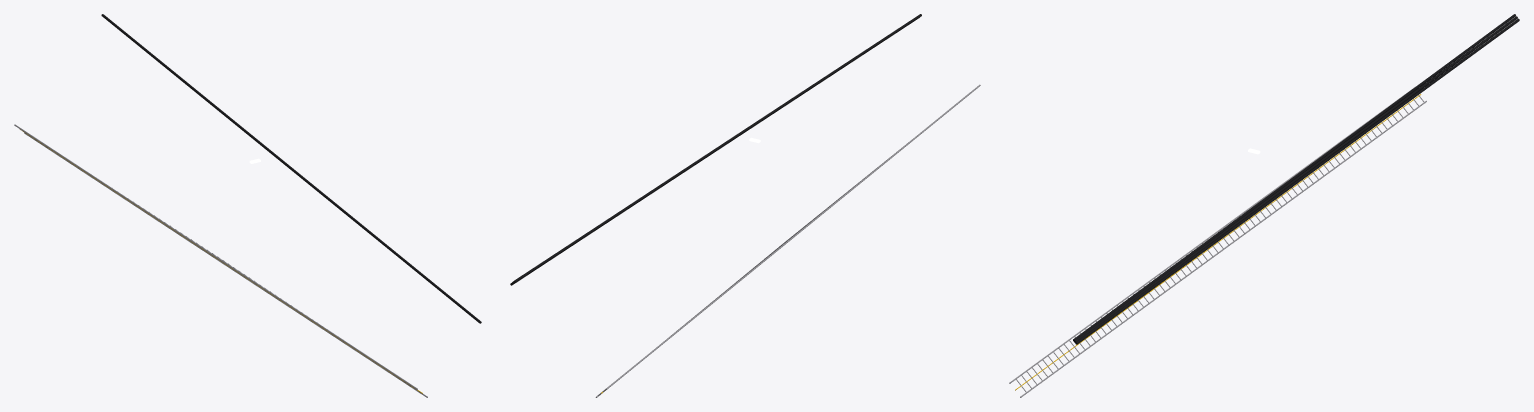
The model's file is ladder_4.glb.
The picture shows the model from 3 angles, left to right: view 1: azimuth 30°, elevation 25°; view 2: azimuth 150°, elevation 25°; view 3: azimuth 330°, elevation 25°; orthographic projection. The views are drawn at different scales.
Visible parts, largest first — view 1: ladder_4; view 2: ladder_4; view 3: ladder_4.
Part boxes in pixels (bbox=[...]): ladder_4: bbox=[14, 14, 481, 397]; ladder_4: bbox=[510, 14, 980, 397]; ladder_4: bbox=[1009, 14, 1519, 397].
Size of the model in its own units: 3.02 by 3.25 by 21.57.
Materials: 4 (2 with a texture image).
